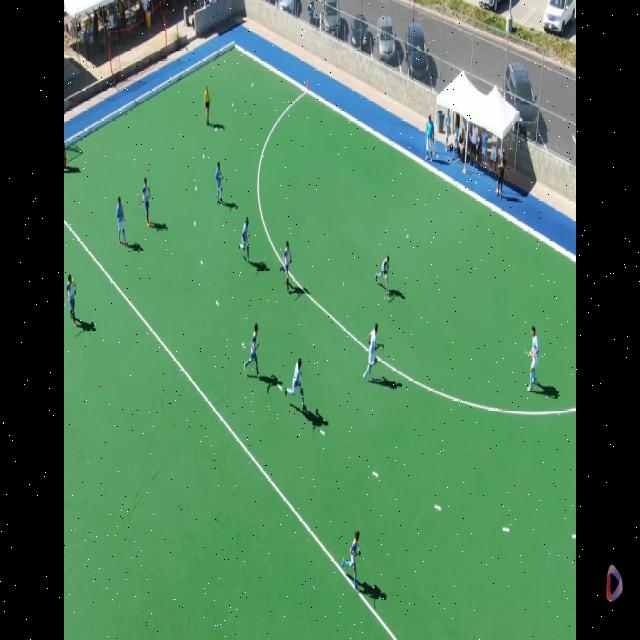humans: (340, 521, 362, 596), (282, 350, 308, 413), (361, 320, 381, 385), (242, 317, 262, 380), (372, 252, 395, 305), (526, 319, 539, 396), (279, 236, 294, 296), (66, 266, 79, 331), (115, 189, 128, 250), (140, 172, 152, 230), (238, 214, 252, 263), (424, 112, 437, 164), (214, 156, 226, 208), (495, 153, 506, 199), (203, 78, 212, 127)
